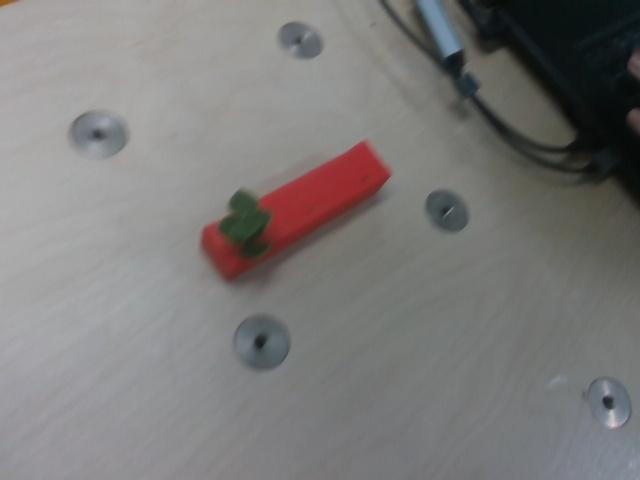leaf: (217, 187, 274, 263)
